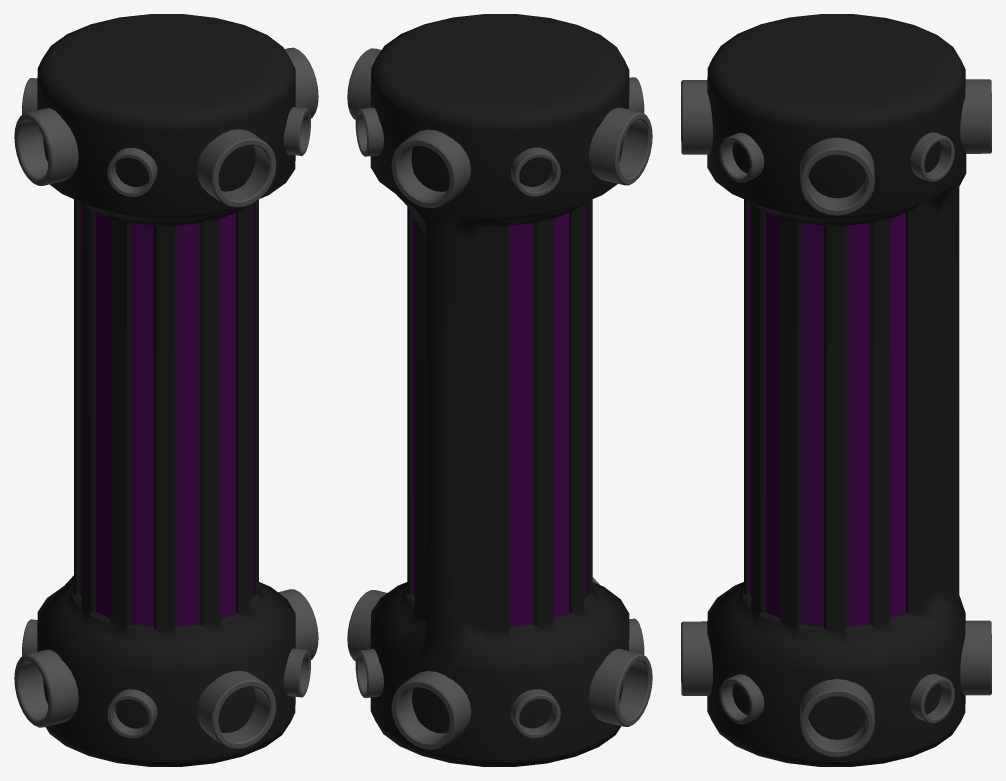
The model's file is PowerVial.fbx.
3 renders of one model, left to right at view 1: azimuth 30°, elevation 25°; view 2: azimuth 150°, elevation 25°; view 3: azimuth 270°, elevation 25°, orthographic.
Visible parts, largest first — view 1: PowerVIal; view 2: PowerVIal; view 3: PowerVIal.
Part boxes in pixels (box(x1,y1,x2,y2)): PowerVIal: box(14, 14, 318, 766); PowerVIal: box(347, 14, 652, 766); PowerVIal: box(681, 14, 991, 766).
Bounding box in the file's own units: 0.1108 × 0.2577 × 0.1108.
